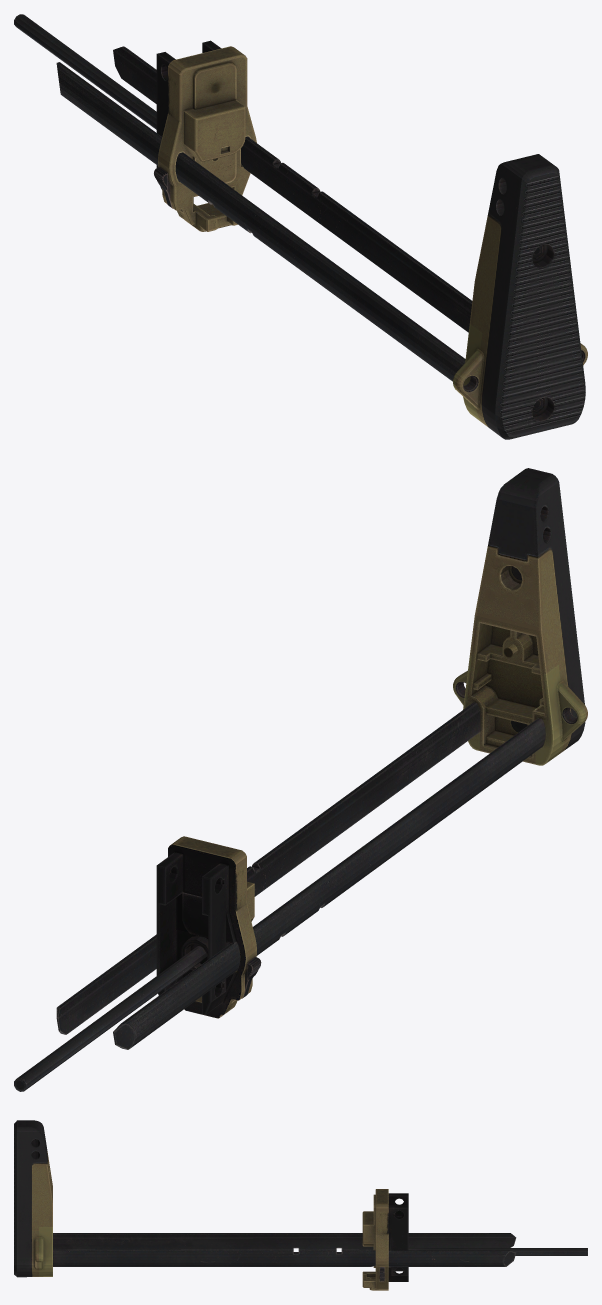
The picture shows the model from 3 angles, top to bottom: view 1: azimuth 30°, elevation 25°; view 2: azimuth 150°, elevation 25°; view 3: azimuth 270°, elevation 25°; orthographic projection. The views are drawn at different scales.
Visible parts, largest first — view 1: TW_5bd704e7209c4d00d7167c31_PZ_Import; view 2: TW_5bd704e7209c4d00d7167c31_PZ_Import; view 3: TW_5bd704e7209c4d00d7167c31_PZ_Import.
Part boxes in pixels (left/top/right/bottom): TW_5bd704e7209c4d00d7167c31_PZ_Import: left=14, top=14, right=587, bottom=439; TW_5bd704e7209c4d00d7167c31_PZ_Import: left=14, top=468, right=587, bottom=1091; TW_5bd704e7209c4d00d7167c31_PZ_Import: left=14, top=1120, right=587, bottom=1290.
Size of the model in its own units: 0.0335 by 0.2327 by 0.0726.
Materials: 1 (1 with a texture image).
